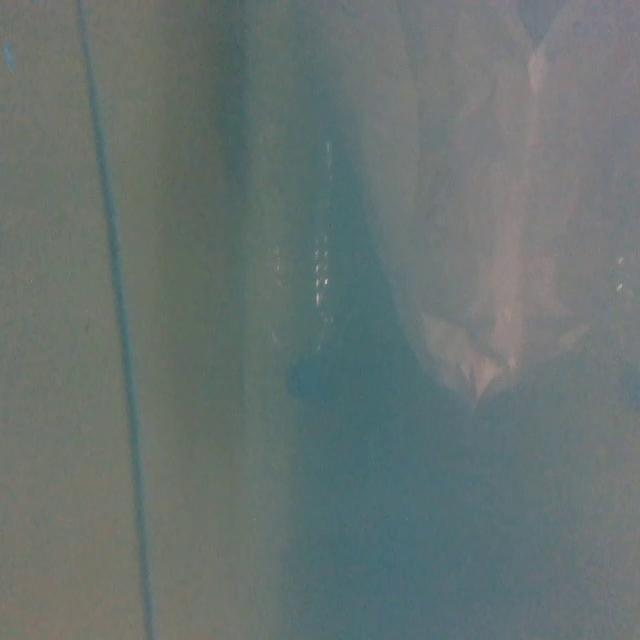plastic bags: (340, 0, 640, 536)
plastic bottle: (221, 52, 363, 440)
